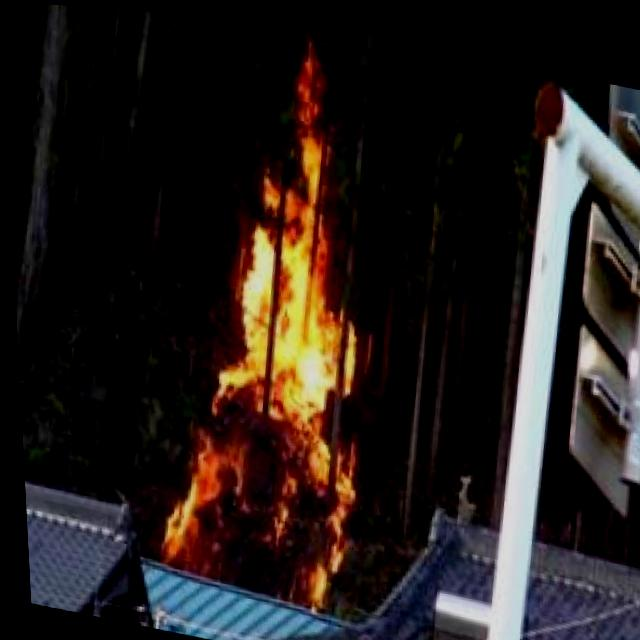helmet: (136, 42, 400, 605)
